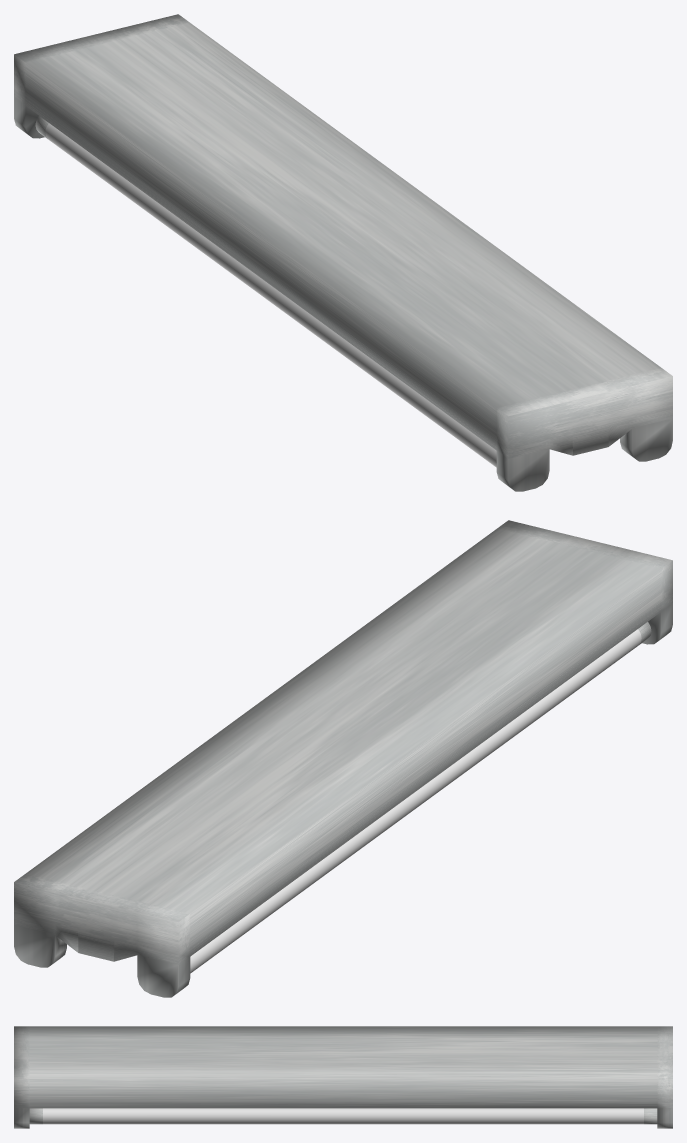
File: Light.fbx
3 views of the same model, one above another, from view 1: azimuth 30°, elevation 25°; view 2: azimuth 150°, elevation 25°; view 3: azimuth 270°, elevation 25° (orthographic). The views are drawn at different scales.
Parts seen in each view (by area): view 1: hallway.fluorescent.T10; view 2: hallway.fluorescent.T10; view 3: hallway.fluorescent.T10.
Part boxes in pixels (x1,y1,x2,y2): hallway.fluorescent.T10: [14, 14, 672, 491]; hallway.fluorescent.T10: [14, 520, 672, 997]; hallway.fluorescent.T10: [14, 1026, 672, 1128].
Size of the model in its own units: 24 by 11 by 125.
